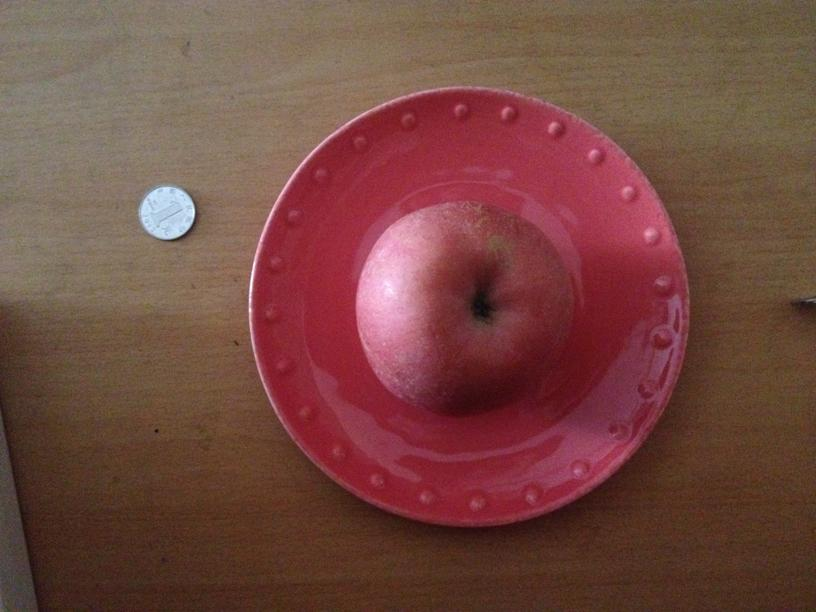apple: (351, 202, 582, 414)
coin: (135, 185, 195, 241)
